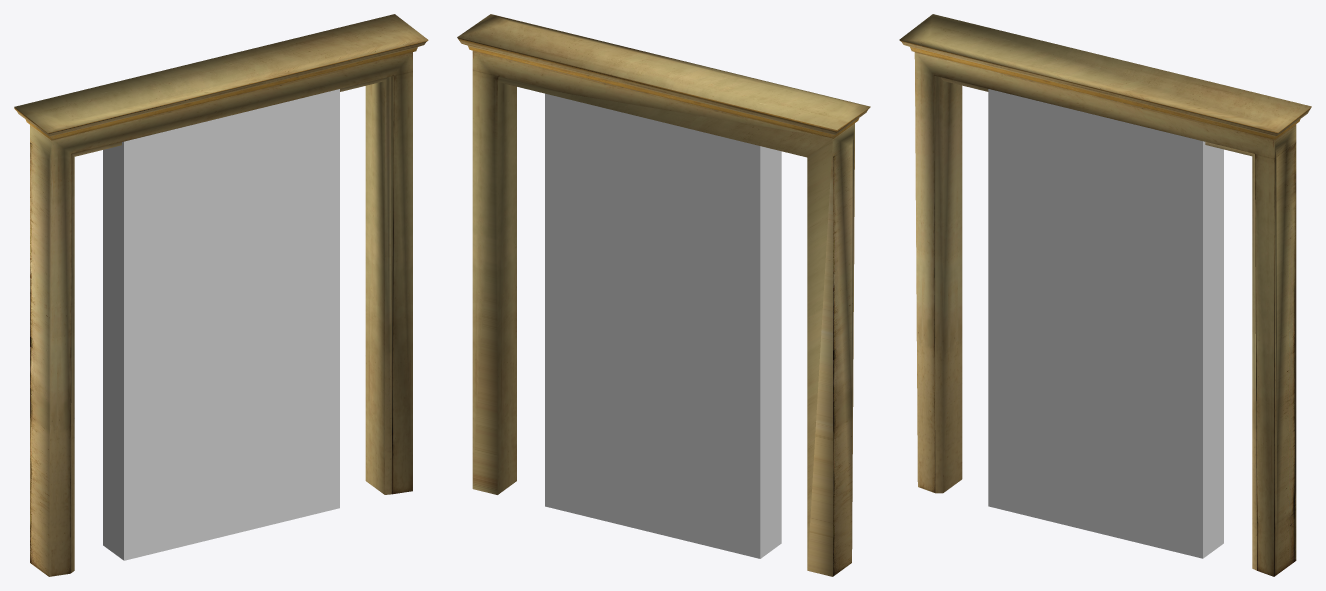
File: Portal.glb
3 views of the same model, side by side, from view 1: azimuth 30°, elevation 25°; view 2: azimuth 150°, elevation 25°; view 3: azimuth 330°, elevation 25° (orthographic).
Parts seen in each view (by area): view 1: bol tool, tür ramen; view 2: bol tool, tür ramen; view 3: bol tool, tür ramen.
Boxes of the visible parts, left/top/right/bottom form: bol tool: left=103, top=89, right=339, bottom=560; tür ramen: left=14, top=14, right=428, bottom=576; bol tool: left=545, top=93, right=781, bottom=558; tür ramen: left=457, top=14, right=870, bottom=576; bol tool: left=988, top=89, right=1223, bottom=558; tür ramen: left=899, top=14, right=1311, bottom=576.
Size of the model in its own units: 2.33 by 2.66 by 0.3593.
1 material, 1 textured.
